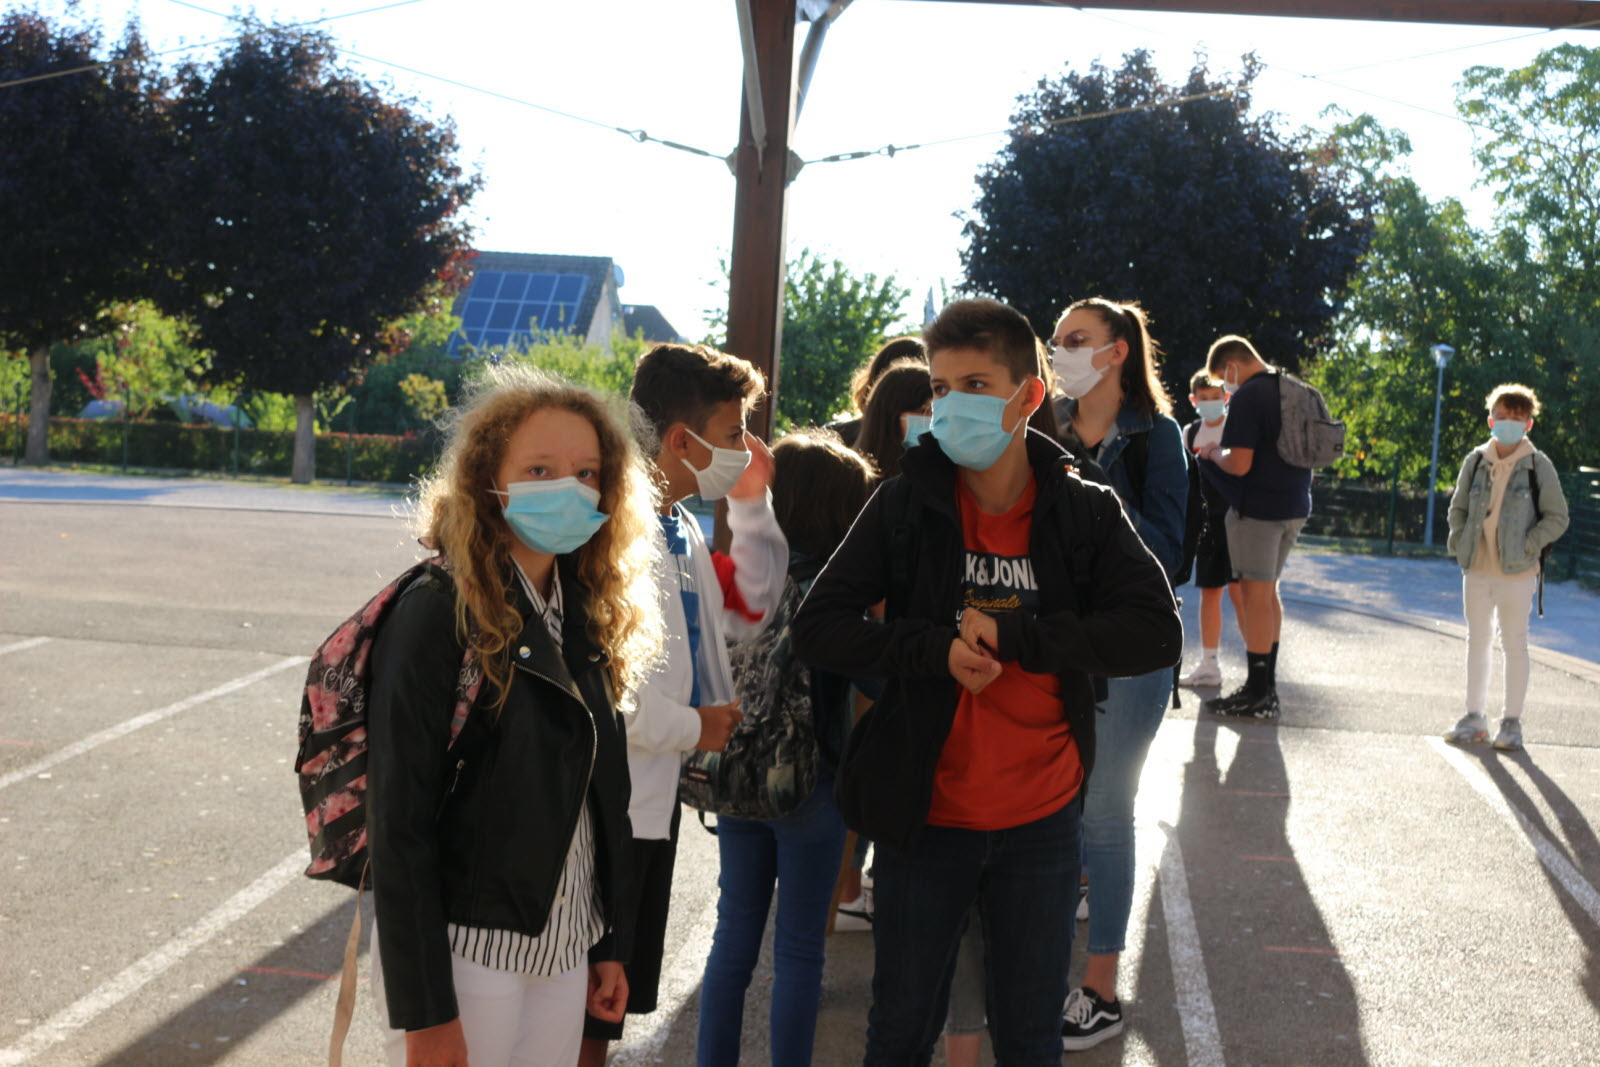with_mask: (648, 385, 751, 504), (926, 349, 1028, 469), (498, 447, 605, 553), (1050, 321, 1119, 397), (1489, 399, 1524, 449), (1190, 380, 1228, 424), (1210, 357, 1243, 396)
